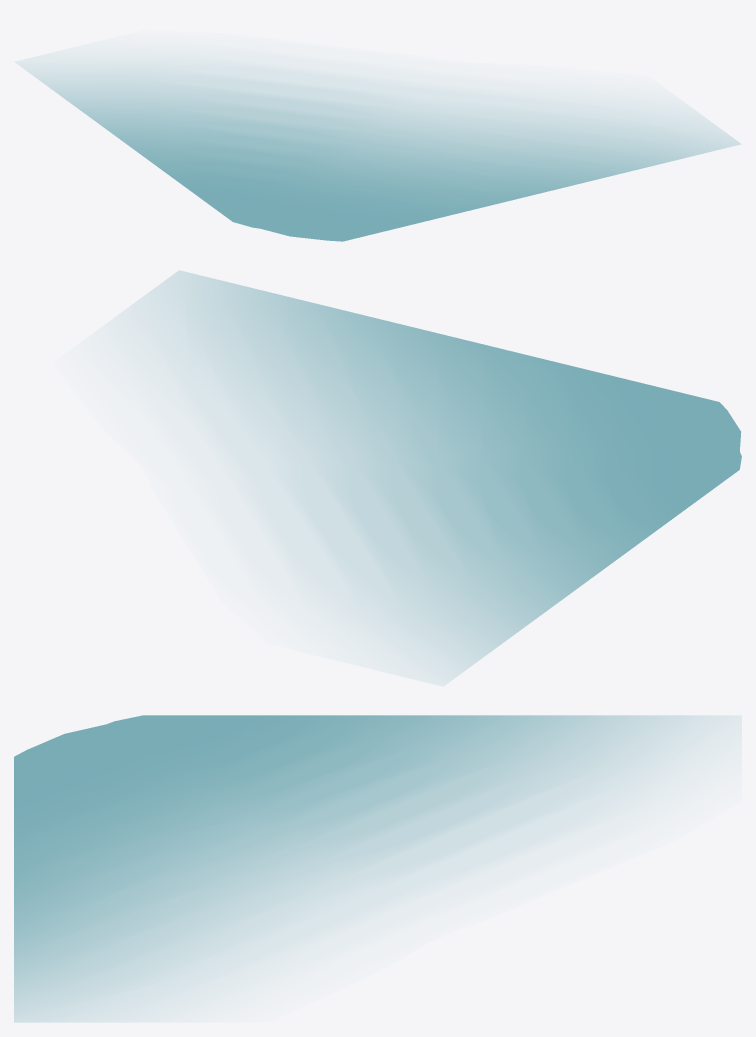
3 renders of one model, top to bottom at view 1: azimuth 30°, elevation 25°; view 2: azimuth 150°, elevation 25°; view 3: azimuth 270°, elevation 25°, orthographic. The views are drawn at different scales.
Parts seen in each view (by area): view 1: city; view 2: city; view 3: city.
Part boxes in pixels (x1,y1,x2,y2): city: (15,58,740,241); city: (116,270,741,685); city: (14,715,741,1022).
Bounding box in the file's own units: 500 × 0 × 500.
